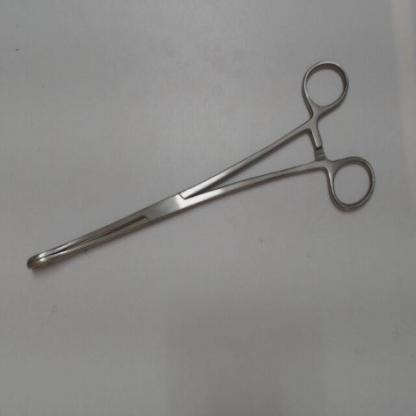Sponge Forceps: (18, 55, 382, 280)
